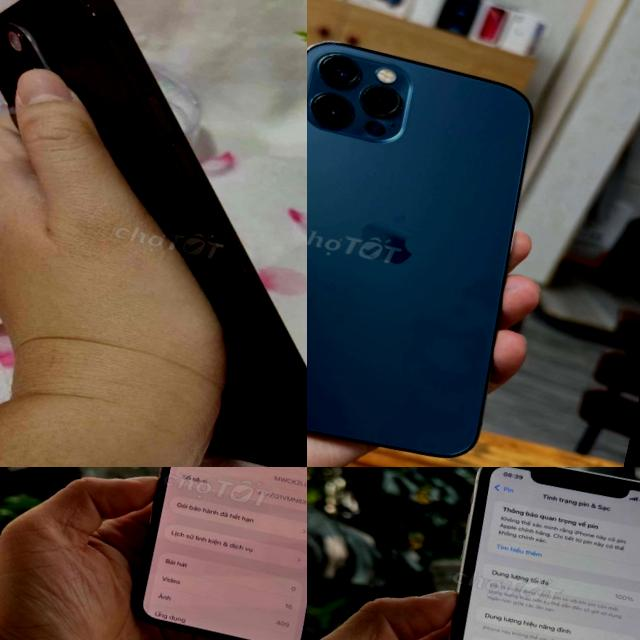gen_11: (119, 467, 307, 640)
gen_12_13: (307, 29, 562, 467)
gen_14: (0, 0, 307, 467)
gen_x_xs: (449, 467, 640, 640)
